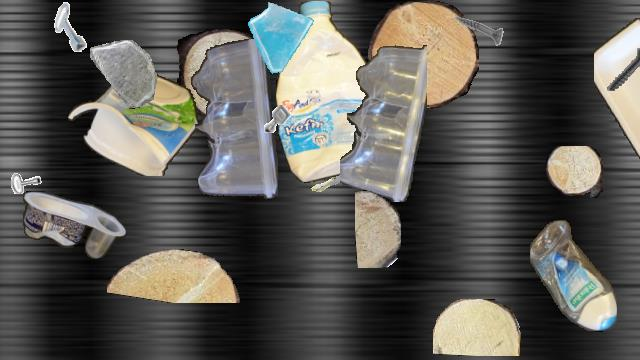glass: (244, 1, 318, 75), (90, 40, 158, 108)
metal: (294, 152, 352, 210), (446, 1, 504, 59), (46, 1, 98, 53), (597, 39, 640, 101), (1, 149, 45, 193), (256, 98, 298, 140)
plastic: (276, 1, 378, 183), (188, 39, 278, 203), (68, 70, 198, 176), (340, 41, 426, 201), (530, 220, 616, 332), (594, 1, 640, 191), (23, 191, 125, 259)
wood: (368, 1, 478, 109), (174, 29, 270, 119), (107, 249, 243, 303), (433, 299, 521, 355), (355, 190, 401, 268), (546, 146, 602, 198), (634, 93, 640, 169)
